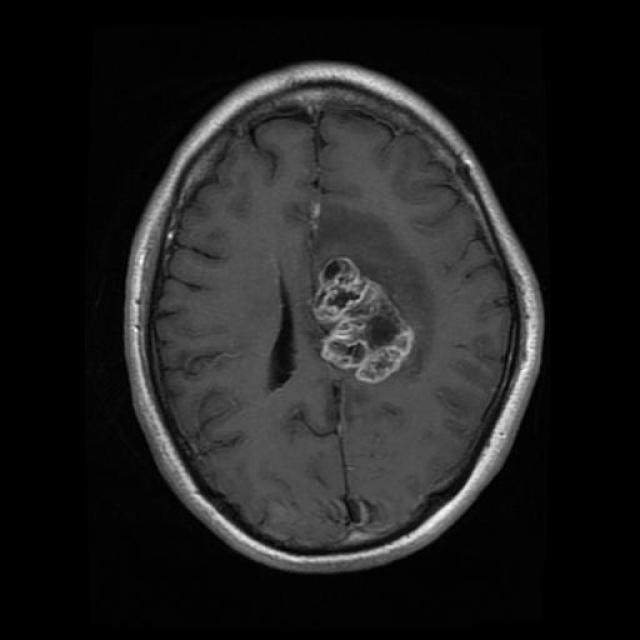Brain-Tumor: (308, 246, 420, 391)
